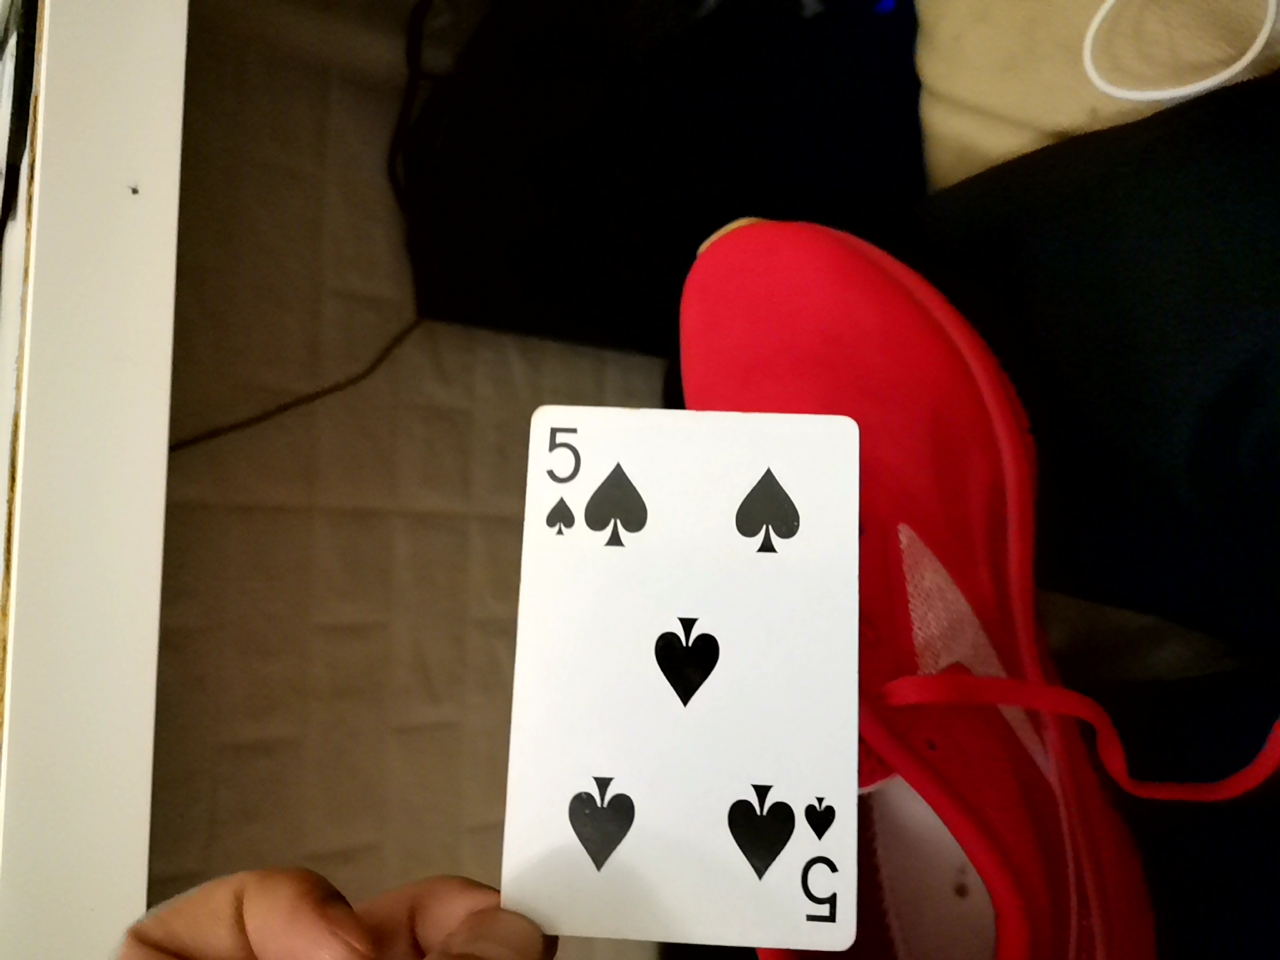ht 5: (492, 391, 863, 950)
